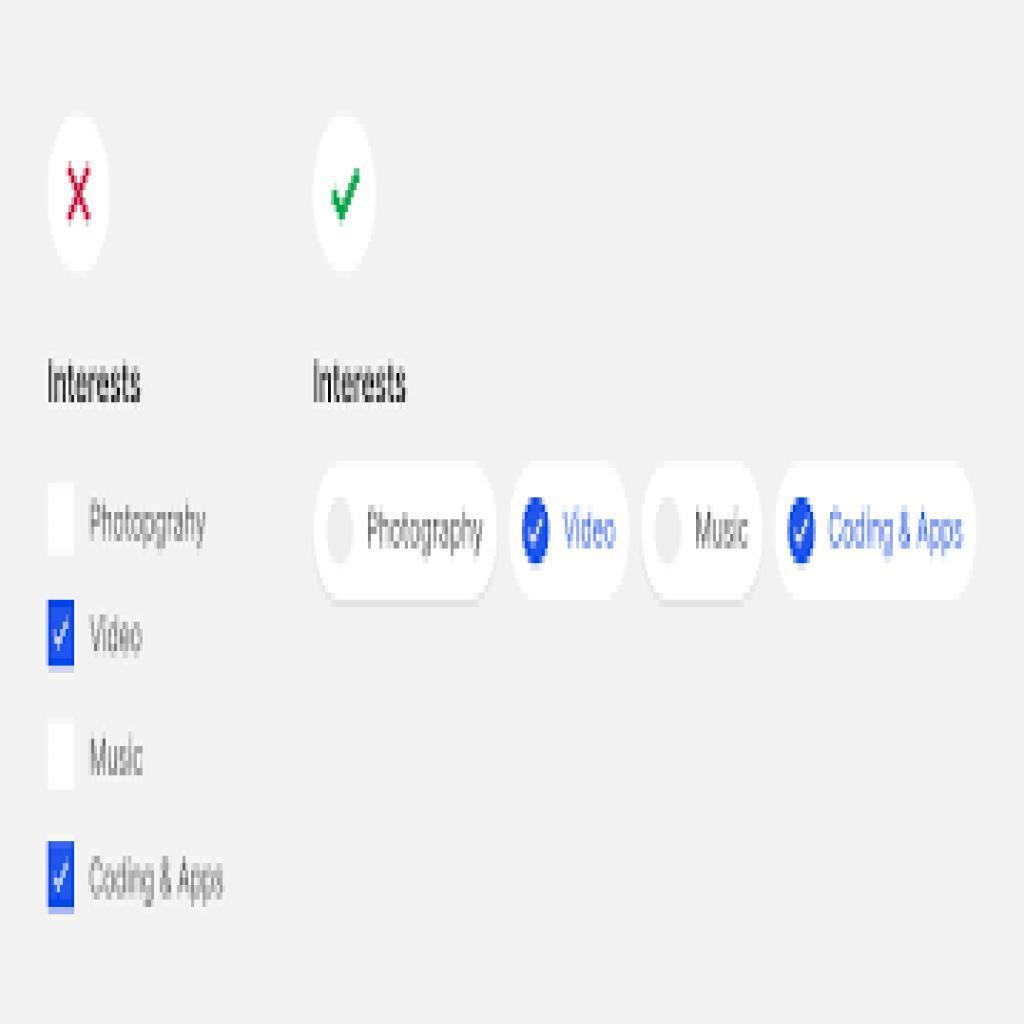checkbox: (46, 601, 77, 671), (49, 722, 77, 793), (46, 491, 76, 556), (46, 843, 74, 911)
label: (363, 501, 490, 563), (829, 507, 972, 561), (87, 496, 209, 550), (559, 503, 620, 558), (90, 736, 156, 782), (693, 503, 751, 554), (90, 614, 147, 657)
radio: (785, 499, 822, 566), (522, 490, 552, 566), (654, 503, 686, 567), (327, 500, 356, 563)
